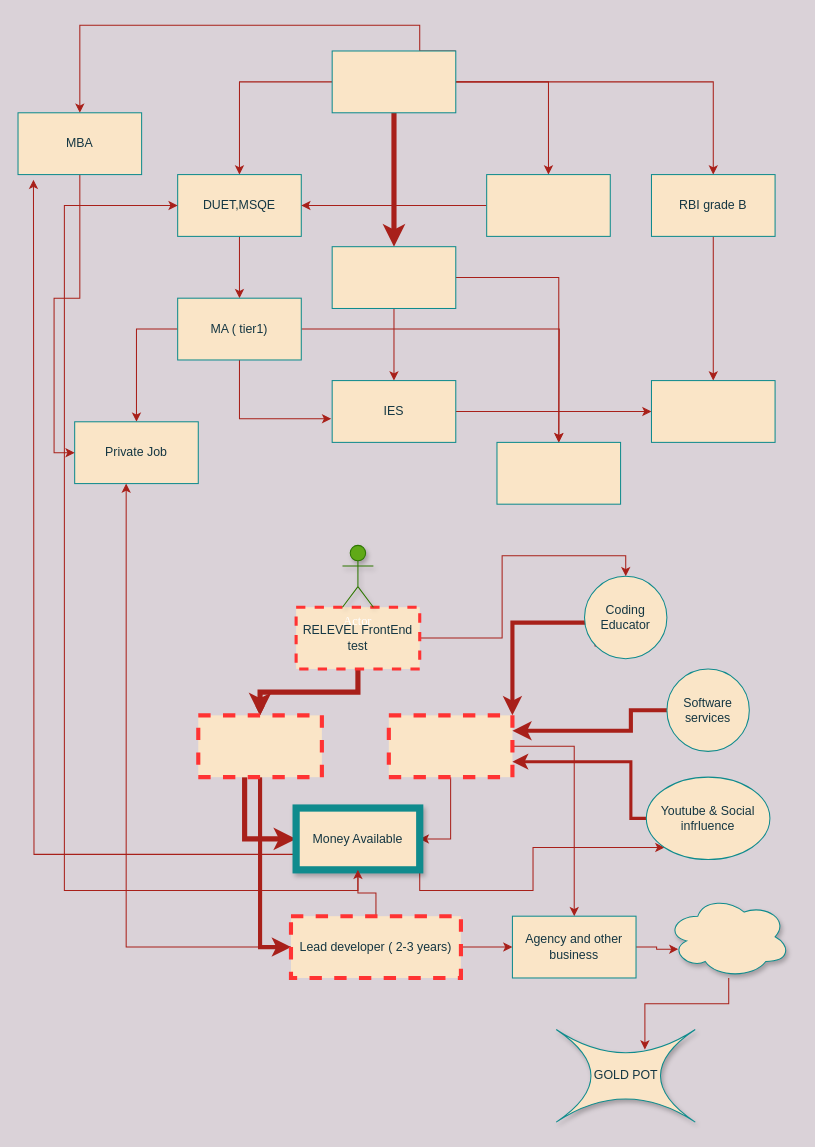
Image size: 815x1147. Some labels were removed from this diagram. The shapes that lost their labels are listed below. From the top down, each one's centre as x and y in pixels, then its label:
At [393,81]: "BA economics 2023".
At [548,205]: "GATE XH C1".
At [393,277]: "MA (ECO) from ignou".
At [712,411]: "ABROAD Study".
At [558,472]: "NET".
At [259,746]: "Professional Programmer".
At [450,746]: "Freelance Income".
At [729,937]: "B1, B2, B3......".
